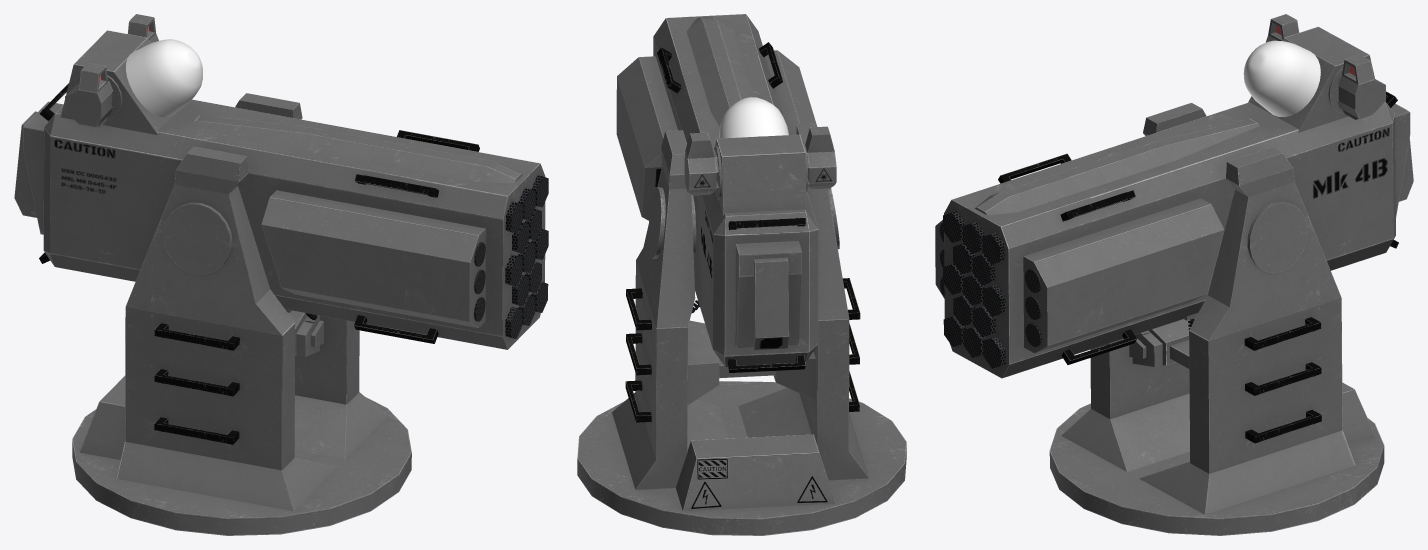
File: mk4b_launcher.glb
3 renders of one model, left to right at view 1: azimuth 30°, elevation 25°; view 2: azimuth 150°, elevation 25°; view 3: azimuth 270°, elevation 25°, orthographic. The views are drawn at different scales.
Visible parts, largest first — view 1: g (×6); view 2: g (×4); view 3: g (×6).
Boxes of the visible parts, x1,y1,x2,y2 form: g (×6): (14,14,548,535); g (×4): (577,14,906,535); g (×6): (935,14,1413,535).
Bounding box in the file's own units: 1.52 × 1.64 × 1.77.
Materials: 7 (7 with a texture image).
